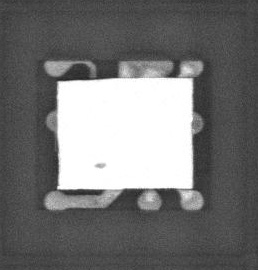DIE_INK: (89, 170, 102, 176)
